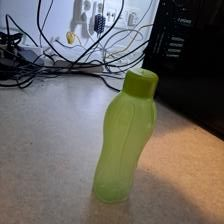bottle: (90, 66, 164, 204)
